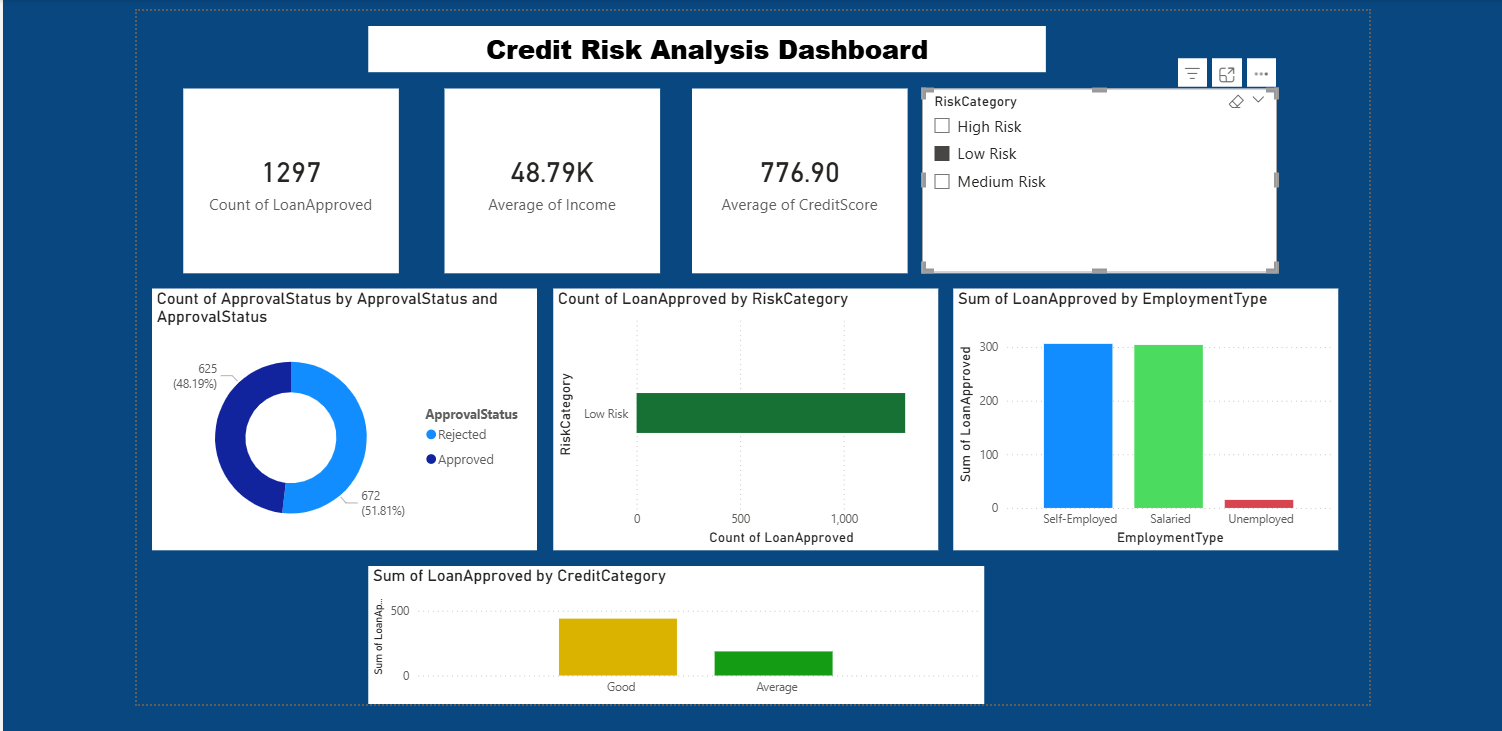

The dashboard page shown, as its layout file describes it:
{"tool":"powerbi","page":{"name":"Page 1","canvas":[1280,720],"ordinal":0},"visuals":[{"type":"donutChart","fields":{"Category":["loan_risk_prediction_dataset.ApprovalStatus"],"Series":["loan_risk_prediction_dataset.ApprovalStatus"],"Y":["CountNonNull(loan_risk_prediction_dataset.ApprovalStatus)"]},"box":[16,288,400,272],"z":0},{"type":"clusteredColumnChart","fields":{"Category":["loan_risk_prediction_dataset.EmploymentType"],"Y":["Sum(loan_risk_prediction_dataset.LoanApproved)"]},"box":[848,288,400,272],"z":1000},{"type":"clusteredColumnChart","fields":{"Category":["loan_risk_prediction_dataset.CreditCategory"],"Y":["Sum(loan_risk_prediction_dataset.LoanApproved)"]},"box":[240,576,640,144],"z":2000},{"type":"clusteredBarChart","fields":{"Category":["loan_risk_prediction_dataset.RiskCategory"],"Y":["CountNonNull(loan_risk_prediction_dataset.LoanApproved)"]},"box":[432,288,400,272],"z":3000},{"type":"card","fields":{"Values":["CountNonNull(loan_risk_prediction_dataset.LoanApproved)"]},"box":[48,80,224,192],"z":4000},{"type":"card","fields":{"Values":["Avg(loan_risk_prediction_dataset.CreditScore)"]},"box":[560,80,224,192],"z":5000},{"type":"slicer","fields":{"Values":["loan_risk_prediction_dataset.RiskCategory"]},"box":[816,80,368,192],"z":5500},{"type":"card","fields":{"Values":["Avg(loan_risk_prediction_dataset.Income)"]},"box":[304,80,224,192],"z":6000},{"type":"textbox","box":[240,16,704,48],"z":8000}]}

Visuals, with their boxes in screenshot pixels (x1, y1, x2, y2):
donutChart - loan_risk_prediction_dataset.ApprovalStatus x loan_risk_prediction_dataset.ApprovalStatus: (x1=148, y1=286, x2=535, y2=549)
clusteredColumnChart - loan_risk_prediction_dataset.EmploymentType x Sum(loan_risk_prediction_dataset.LoanApproved): (x1=952, y1=286, x2=1339, y2=549)
clusteredColumnChart - loan_risk_prediction_dataset.CreditCategory x Sum(loan_risk_prediction_dataset.LoanApproved): (x1=365, y1=564, x2=983, y2=704)
clusteredBarChart - loan_risk_prediction_dataset.RiskCategory x CountNonNull(loan_risk_prediction_dataset.LoanApproved): (x1=550, y1=286, x2=937, y2=549)
card - CountNonNull(loan_risk_prediction_dataset.LoanApproved): (x1=179, y1=85, x2=396, y2=271)
card - Avg(loan_risk_prediction_dataset.CreditScore): (x1=674, y1=85, x2=891, y2=271)
slicer - loan_risk_prediction_dataset.RiskCategory: (x1=922, y1=85, x2=1277, y2=271)
card - Avg(loan_risk_prediction_dataset.Income): (x1=427, y1=85, x2=643, y2=271)
textbox: (x1=365, y1=23, x2=1045, y2=70)
